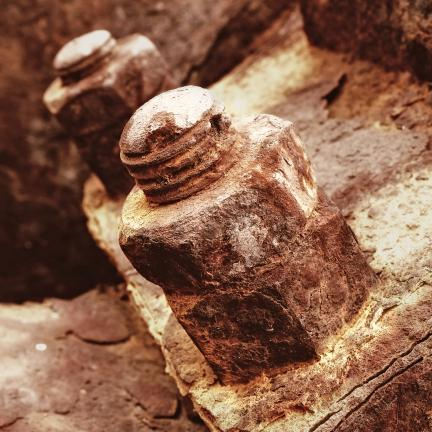karat: (0, 0, 432, 432), (120, 87, 377, 384), (0, 0, 172, 301), (44, 30, 176, 196)
